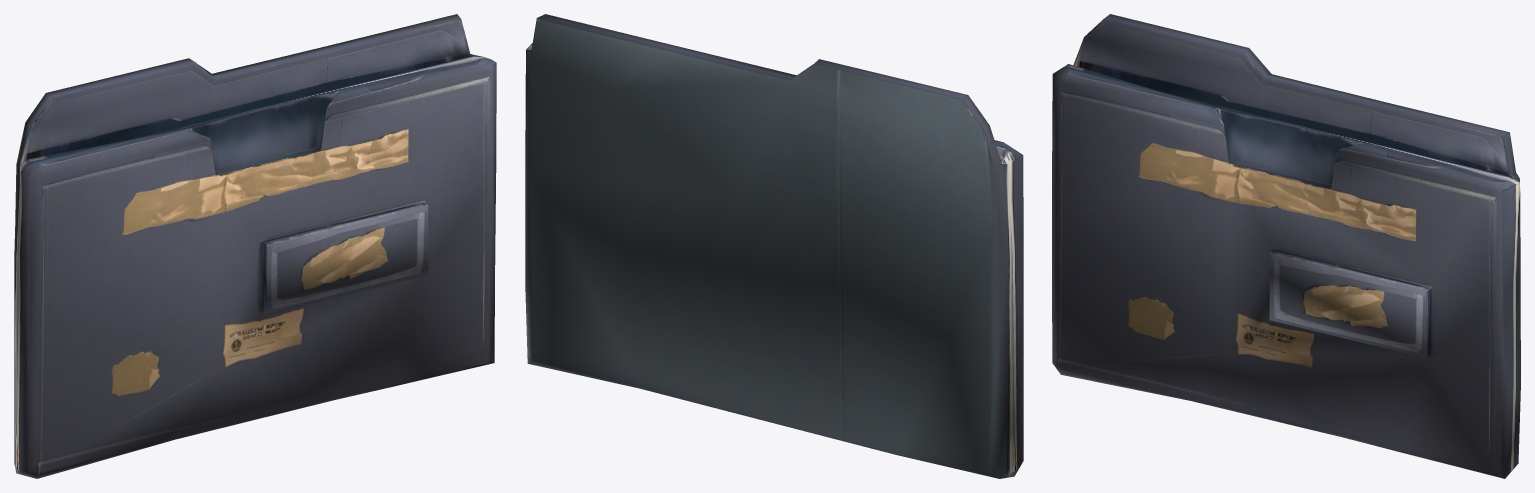
The model's file is _0624125912_texture.glb.
The picture shows the model from 3 angles, left to right: view 1: azimuth 30°, elevation 25°; view 2: azimuth 150°, elevation 25°; view 3: azimuth 330°, elevation 25°; orthographic projection. The views are drawn at different scales.
Bounding box in the file's own units: 2 × 1.47 × 0.2124.
1 material, 1 textured.
